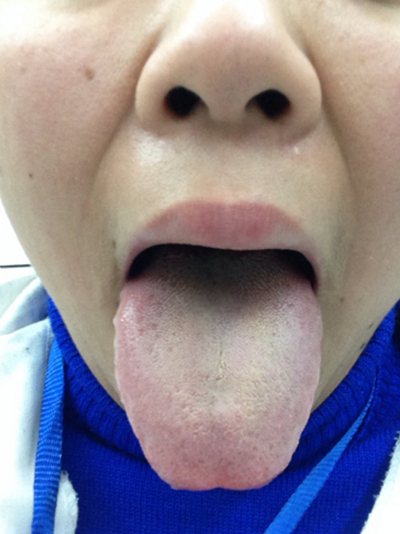huangtaishe: (113, 266, 323, 489)
